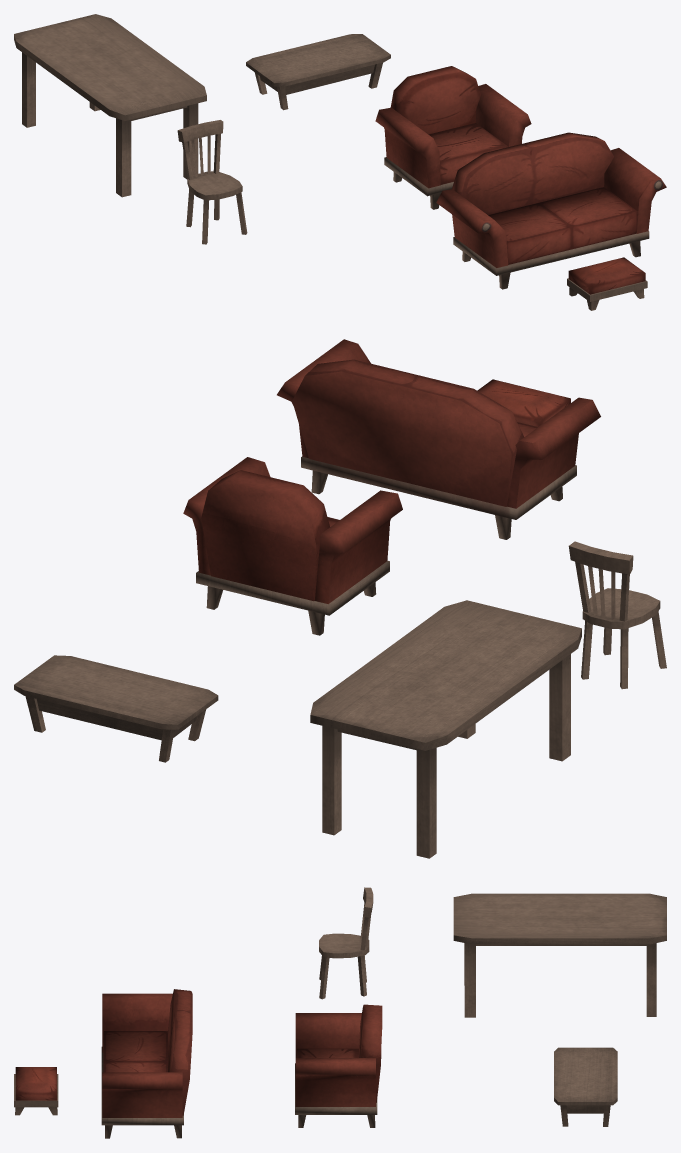
File: LivingRoom.fbx
3 renders of one model, top to bottom at view 1: azimuth 30°, elevation 25°; view 2: azimuth 150°, elevation 25°; view 3: azimuth 270°, elevation 25°, orthographic. The views are drawn at different scales.
Visible parts, largest first — view 1: Sofa, Table, Sofa Chair, Coffee table, Chair, ottoman; view 2: Sofa, Table, Sofa Chair, Coffee table, Chair, ottoman; view 3: Table, Sofa, Sofa Chair, Coffee table, Chair, ottoman.
Part boxes in pixels (x1,y1,x2,y2): Sofa: [436, 132, 666, 289]; Table: [14, 14, 206, 197]; Sofa Chair: [375, 66, 531, 209]; Coffee table: [246, 34, 390, 110]; Chair: [177, 120, 247, 244]; ottoman: [567, 257, 647, 310]; Sofa: [277, 339, 600, 539]; Table: [310, 600, 581, 858]; Sofa Chair: [183, 457, 402, 635]; Coffee table: [14, 655, 218, 762]; Chair: [568, 541, 666, 689]; ottoman: [477, 379, 570, 426]; Table: [453, 893, 666, 1017]; Sofa: [101, 989, 192, 1138]; Sofa Chair: [295, 1004, 382, 1127]; Coffee table: [554, 1047, 617, 1126]; Chair: [319, 887, 373, 999]; ottoman: [14, 1067, 58, 1115].
Bounding box in the file's own units: 691 × 1117 × 192.
Materials: 6 (6 with a texture image).
